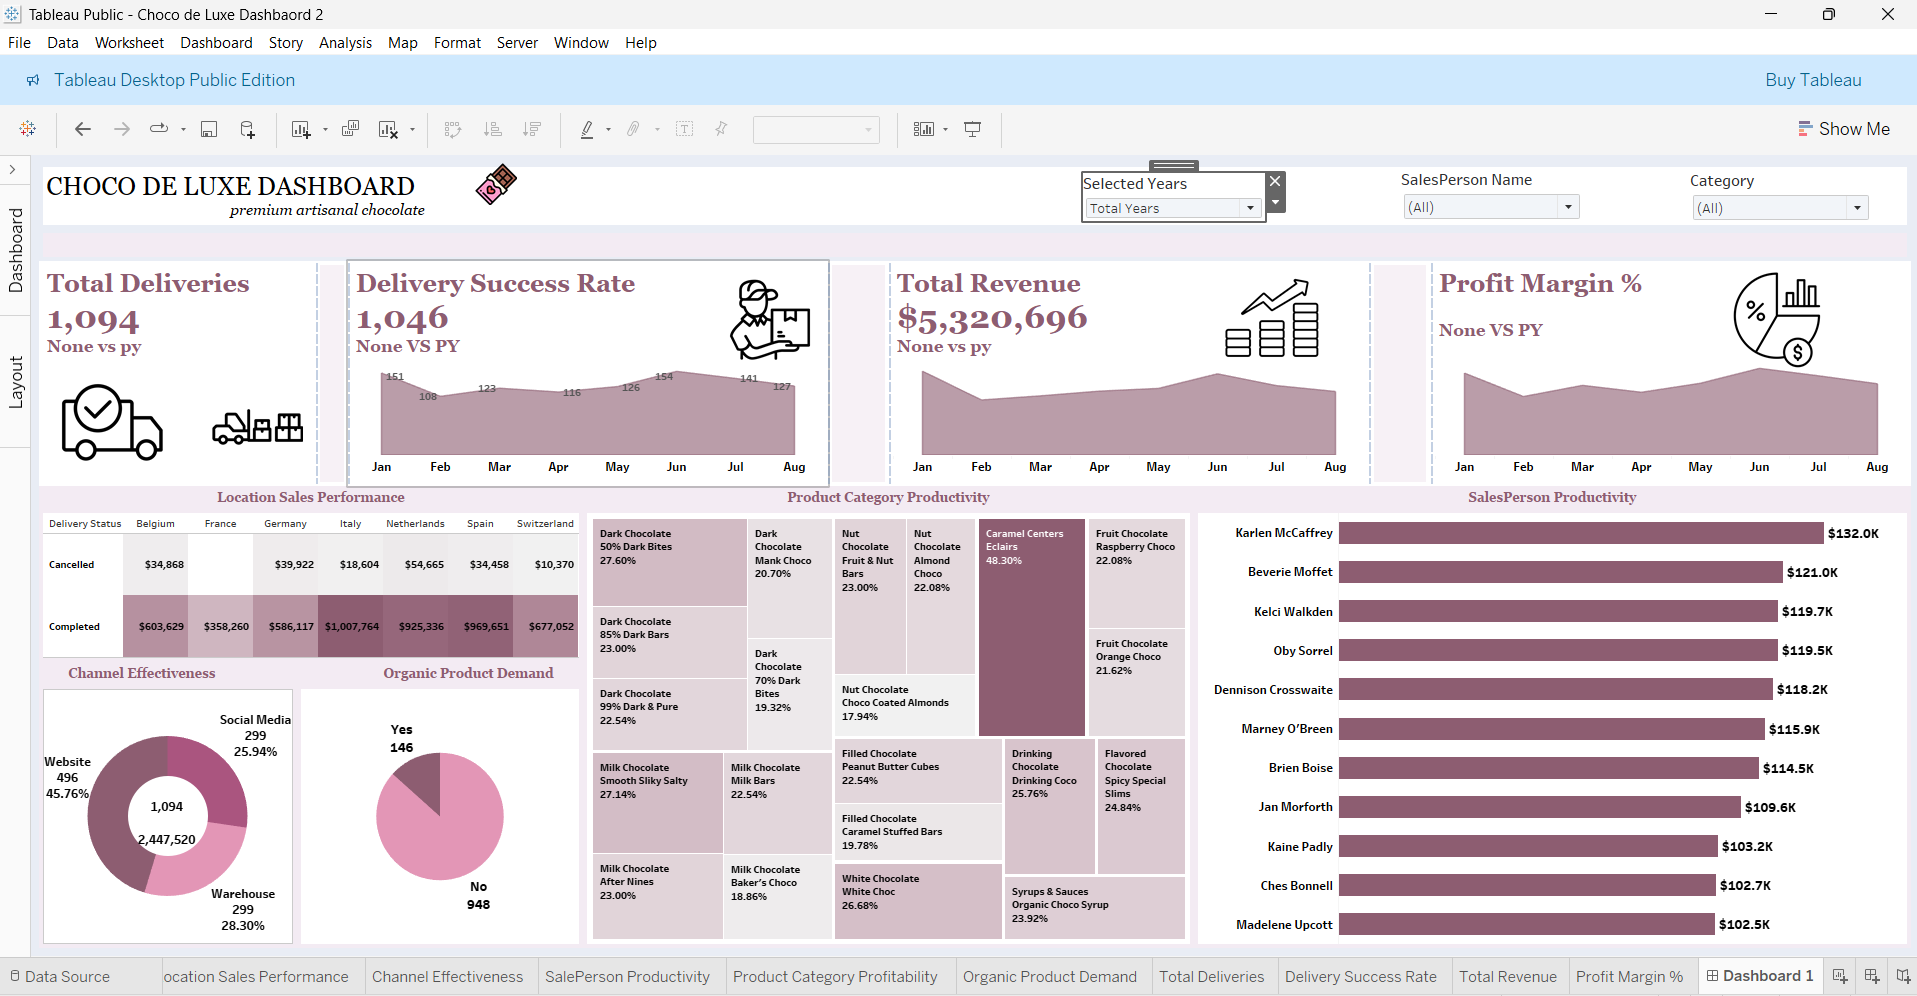

The dashboard page shown, as its layout file describes it:
{"tool":"tableau","page":{"name":"CHOCO DE LUXE DASHBOARD","canvas":[1000,1000],"units":"permille","ordinal":0},"visuals":[{"type":"text","box":[4.2,10,991.5,82.4]},{"type":"image","param":"Image/chocolate (1).png","box":[235.4,10,35,52.4]},{"type":"filter","title":"Location Sales Performance","param":"[federated.1a3qa581vdpiau12jeuxn0k5hg1q].[none:SalesPerson Name:nk]","box":[725.4,17.5,96.6,66.2]},{"type":"filter","title":"Location Sales Performance","param":"[federated.1a3qa581vdpiau12jeuxn0k5hg1q].[none:Category:nk]","box":[878.7,18.7,96.6,66.2]},{"type":"parameter","param":"[Parameters].[Parameter 1]","box":[557,22.5,96.6,59.9]},{"type":"blank","box":[4.2,92.4,991.5,40.1]},{"type":"worksheet","title":"Total Deliveries","mark":"Automatic","box":[4.2,132.5,146.7,280.7]},{"type":"blank","box":[151,132.5,16.9,280.7]},{"type":"worksheet","title":"Delivery Success Rate","mark":"Area","rows":["Calculation_232216878525898769","Calculation_232216878526521362"],"cols":["Date"],"box":[167.9,132.5,264.1,280.7]},{"type":"blank","box":[432,132.5,16.9,280.7]},{"type":"worksheet","title":"Total Revenue","mark":"Area","rows":["CY Deliveries (copy)_540150503252566026","PY Deliveries (copy)_540150503254061067"],"cols":["Date"],"box":[448.9,132.5,264.1,280.7]},{"type":"blank","box":[713,132.5,18.5,280.7]},{"type":"worksheet","title":"Profit Margin %","mark":"Area","rows":["CY Deliveries (copy)_540150503270477848","PY Total Deliveries (copy)_540150503270821913"],"cols":["Date"],"box":[731.6,132.5,264.1,280.7]},{"type":"image","param":"Image/revenue-growth.png","box":[631.3,142.3,63.4,121.1]},{"type":"image","param":"Image/profit-margin.png","box":[898,142.3,70.6,126.1]},{"type":"image","param":"Image/delivery-man.png","box":[368.7,153.6,62.2,104.9]},{"type":"image","param":"Image/delivered (1).png","box":[9.7,254.7,80.9,157.3]},{"type":"image","param":"Image/delivery (2).png","box":[96,282.2,83.3,113.6]},{"type":"text","box":[4.2,413.2,288.1,28.7]},{"type":"text","box":[292.4,413.2,323.6,28.7]},{"type":"text","box":[616,413.2,379.8,28.7]},{"type":"worksheet","title":"Location Sales Performance","mark":"Square","rows":["Delivery Status"],"cols":["Country"],"box":[4.2,441.9,288.1,191]},{"type":"worksheet","title":"Product Category Profitability","mark":"Automatic","box":[292.4,441.9,323.6,548.1]},{"type":"worksheet","title":"SalePerson Productivity","mark":"Automatic","rows":["SalesPerson Name"],"cols":["Calculation_232216878453989387"],"box":[616,441.9,379.8,548]},{"type":"text","box":[4.2,633,288.1,28.7]},{"type":"worksheet","title":"Channel Effectiveness","mark":"Pie","cols":["Calculation_232216878449336327","Calculation_232216878449451017"],"box":[4.2,661.7,136.7,328.3]},{"type":"worksheet","title":"Organic Product Demand","mark":"Pie","box":[140.9,661.7,151.5,328.3]}]}

Visuals, with their boxes on the dashboard's canvas, which has no fixed pixel size, in thousandths of its width and height (x1, y1, x2, y2). These are canvas units, not pixel positions in the 1917x996 screenshot, which may show the page scaled, cropped or inside an application window:
text: BBox(4, 10, 996, 92)
image: BBox(235, 10, 270, 62)
"Location Sales Performance" filter: BBox(725, 18, 822, 84)
"Location Sales Performance" filter: BBox(879, 19, 975, 85)
parameter: BBox(557, 22, 654, 82)
blank: BBox(4, 92, 996, 132)
"Total Deliveries" worksheet: BBox(4, 132, 151, 413)
blank: BBox(151, 132, 168, 413)
"Delivery Success Rate" worksheet (Area marks): BBox(168, 132, 432, 413)
blank: BBox(432, 132, 449, 413)
"Total Revenue" worksheet (Area marks): BBox(449, 132, 713, 413)
blank: BBox(713, 132, 732, 413)
"Profit Margin %" worksheet (Area marks): BBox(732, 132, 996, 413)
image: BBox(631, 142, 695, 263)
image: BBox(898, 142, 969, 268)
image: BBox(369, 154, 431, 258)
image: BBox(10, 255, 91, 412)
image: BBox(96, 282, 179, 396)
text: BBox(4, 413, 292, 442)
text: BBox(292, 413, 616, 442)
text: BBox(616, 413, 996, 442)
"Location Sales Performance" worksheet (Square marks): BBox(4, 442, 292, 633)
"Product Category Profitability" worksheet: BBox(292, 442, 616, 990)
"SalePerson Productivity" worksheet: BBox(616, 442, 996, 990)
text: BBox(4, 633, 292, 662)
"Channel Effectiveness" worksheet (Pie marks): BBox(4, 662, 141, 990)
"Organic Product Demand" worksheet (Pie marks): BBox(141, 662, 292, 990)
